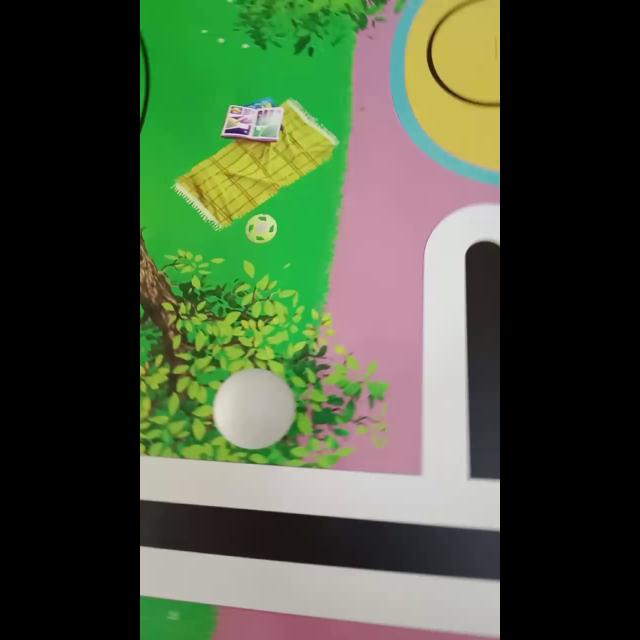white ball: (212, 366, 296, 449)
